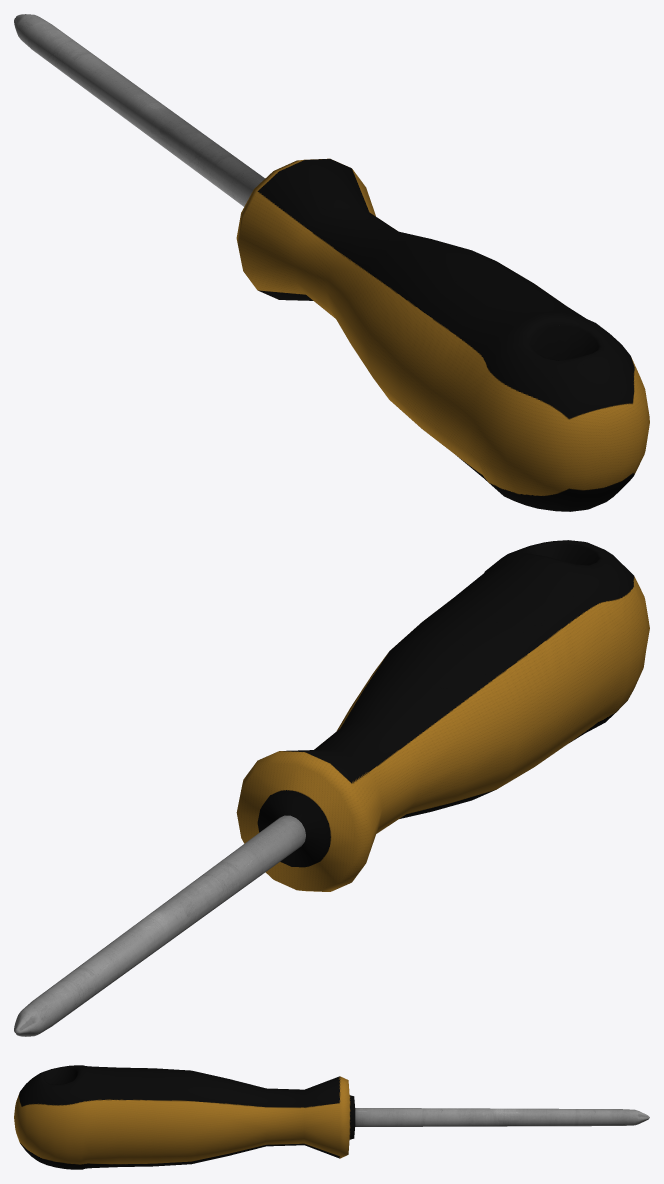
File: Screw_Yellow.fbx
3 renders of one model, top to bottom at view 1: azimuth 30°, elevation 25°; view 2: azimuth 150°, elevation 25°; view 3: azimuth 270°, elevation 25°, orthographic. The views are drawn at different scales.
Parts seen in each view (by area): view 1: Screwdriver_Yellow; view 2: Screwdriver_Yellow; view 3: Screwdriver_Yellow.
Boxes of the visible parts, x1,y1,x2,y2 form: Screwdriver_Yellow: [14, 14, 649, 511]; Screwdriver_Yellow: [14, 540, 649, 1036]; Screwdriver_Yellow: [14, 1065, 649, 1169].
Size of the model in its own units: 0.0427 by 0.0456 by 0.2753.
